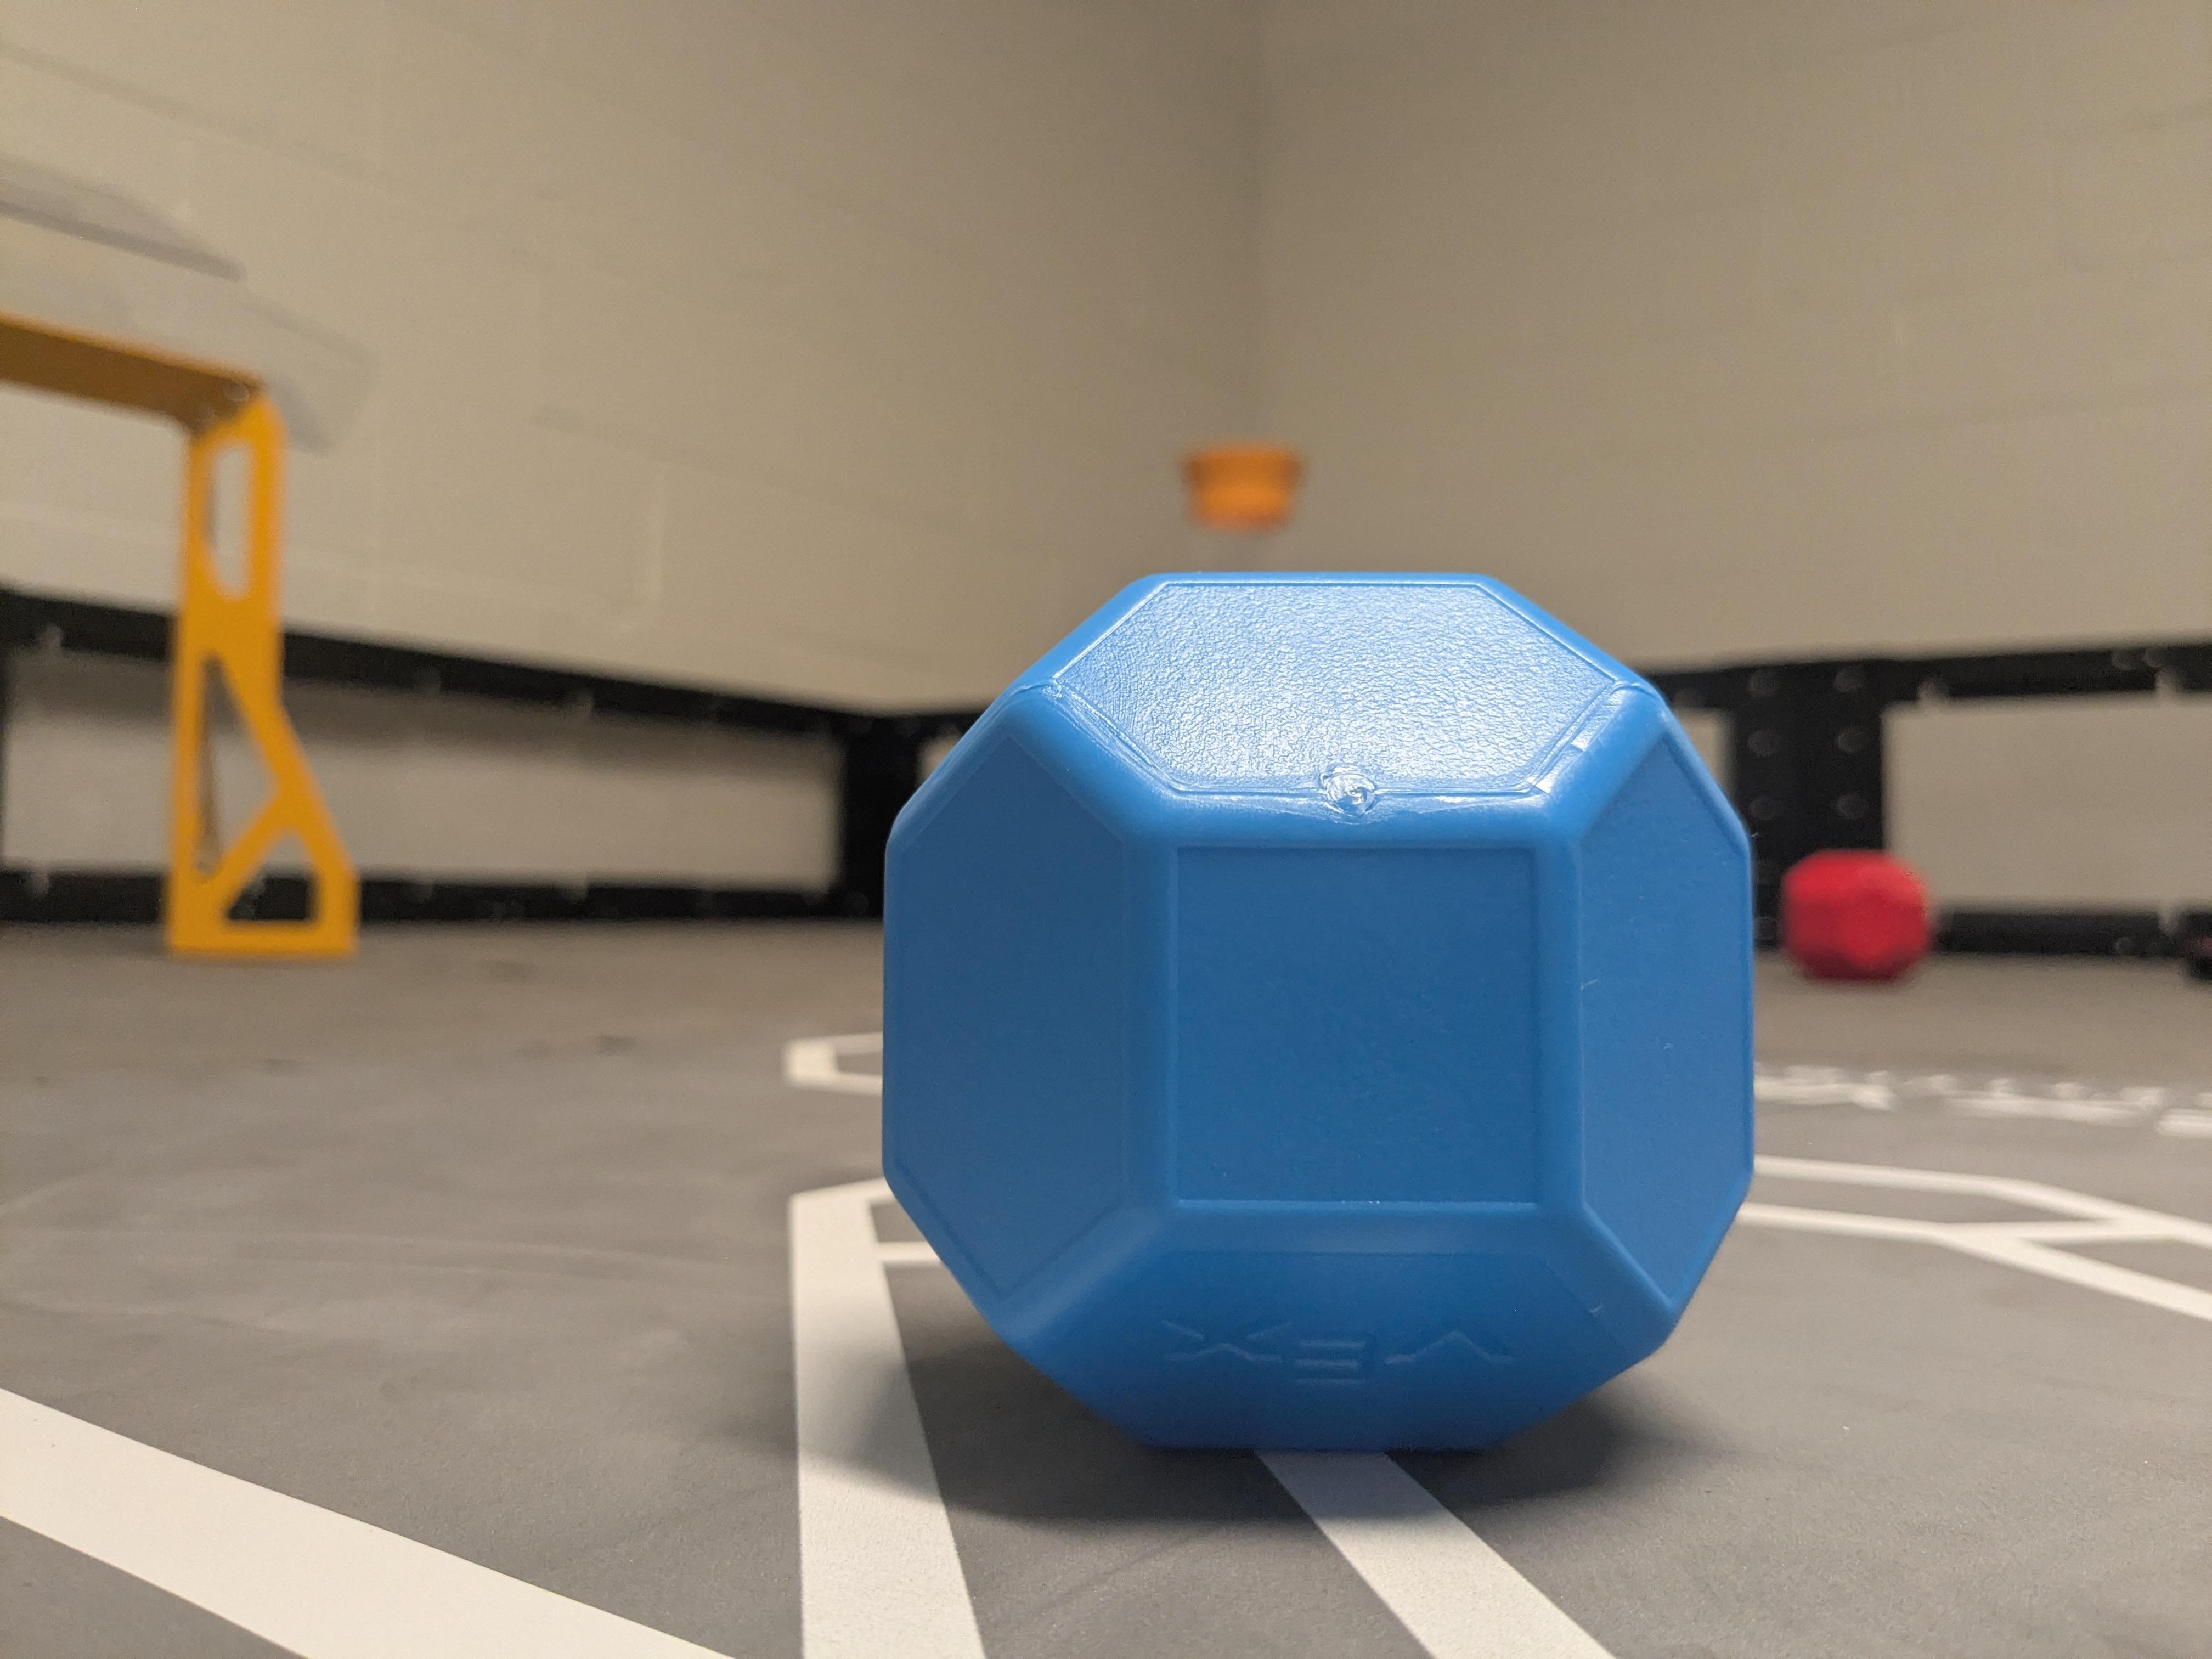Vex-Pieces-BLUE: (878, 573, 1791, 1460)
